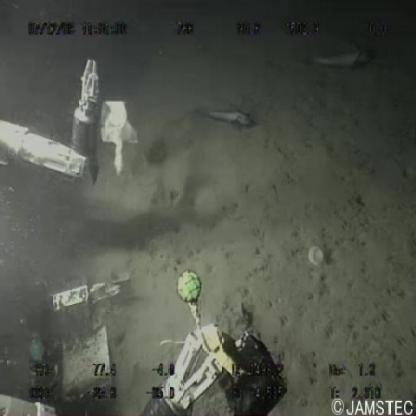Bio: (302, 40, 380, 73), (193, 98, 260, 136)
Rov: (1, 48, 293, 416)
Rác: (98, 96, 143, 179), (306, 243, 328, 269)
